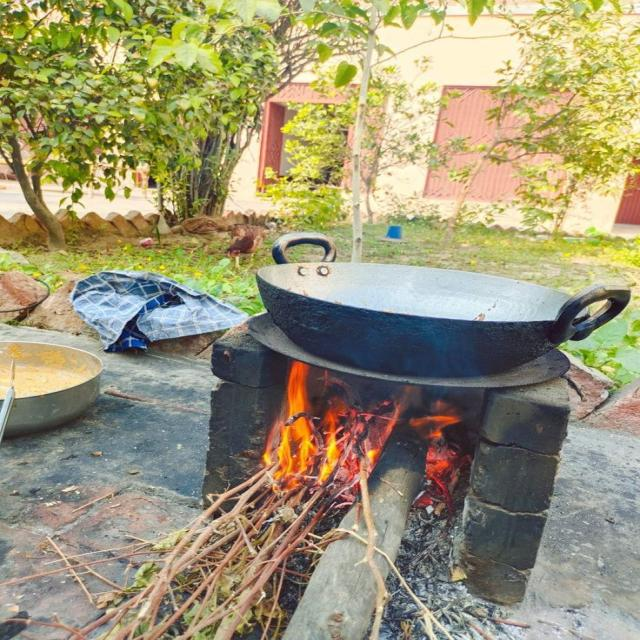fire: (263, 360, 473, 508)
